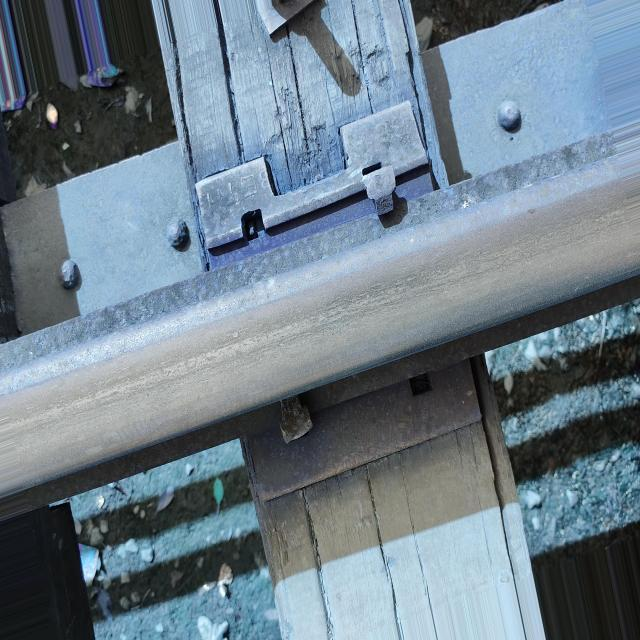Missing Dogscrew: (241, 209, 265, 241), (409, 373, 432, 396)
